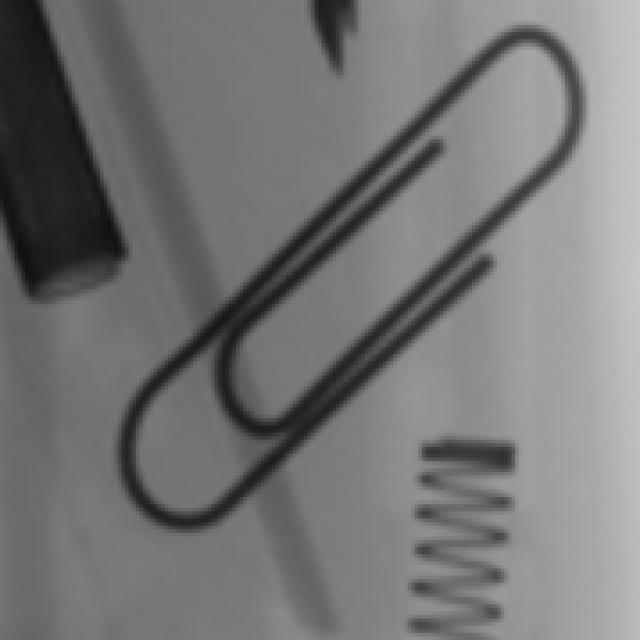GUN: (1, 1, 88, 318)
